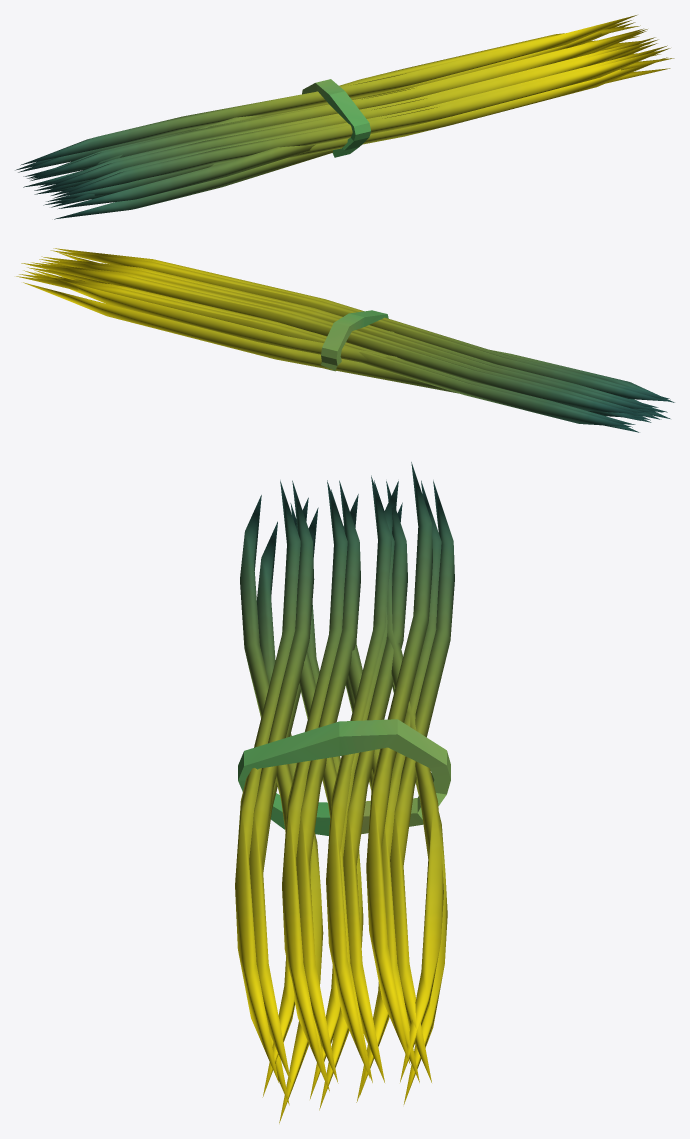
Rendered from Fiber.fbx.
3 views of the same model, one above another, from view 1: azimuth 30°, elevation 25°; view 2: azimuth 150°, elevation 25°; view 3: azimuth 270°, elevation 25° (orthographic). The views are drawn at different scales.
Parts seen in each view (by area): view 1: Fiber; view 2: Fiber; view 3: Fiber.
Boxes of the visible parts, x1=… form: Fiber: x1=15, y1=15, x2=674, y2=219; Fiber: x1=16, y1=248, x2=674, y2=432; Fiber: x1=235, y1=462, x2=454, y2=1123.
Bounding box in the file's own units: 60.34 × 4.85 × 9.28.
